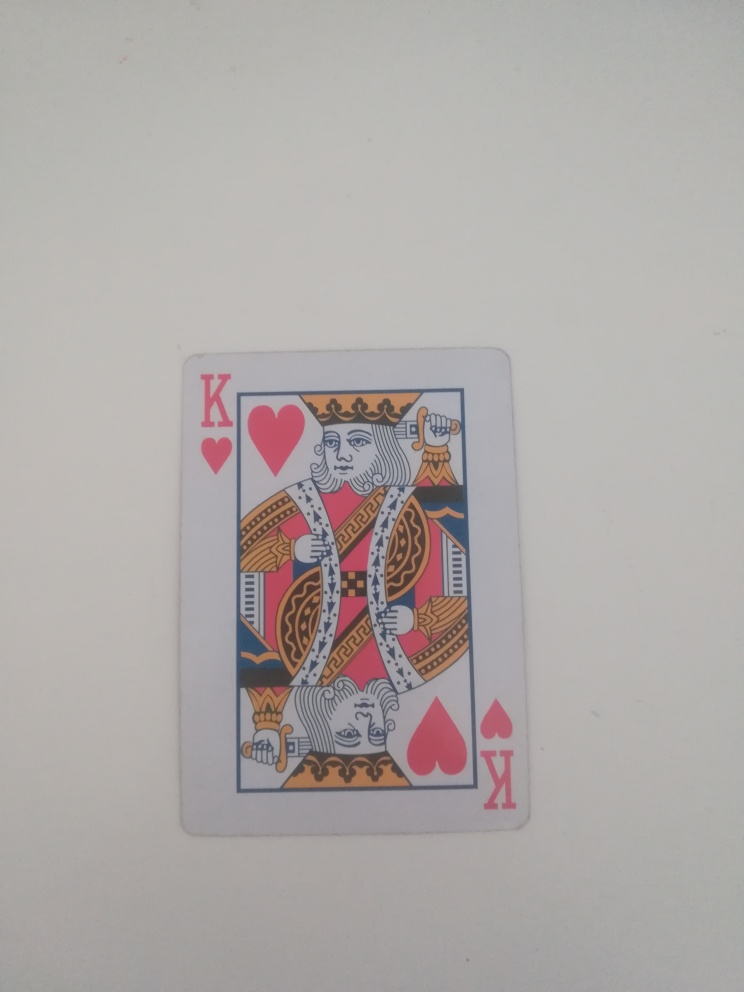KH: (191, 364, 237, 481)
